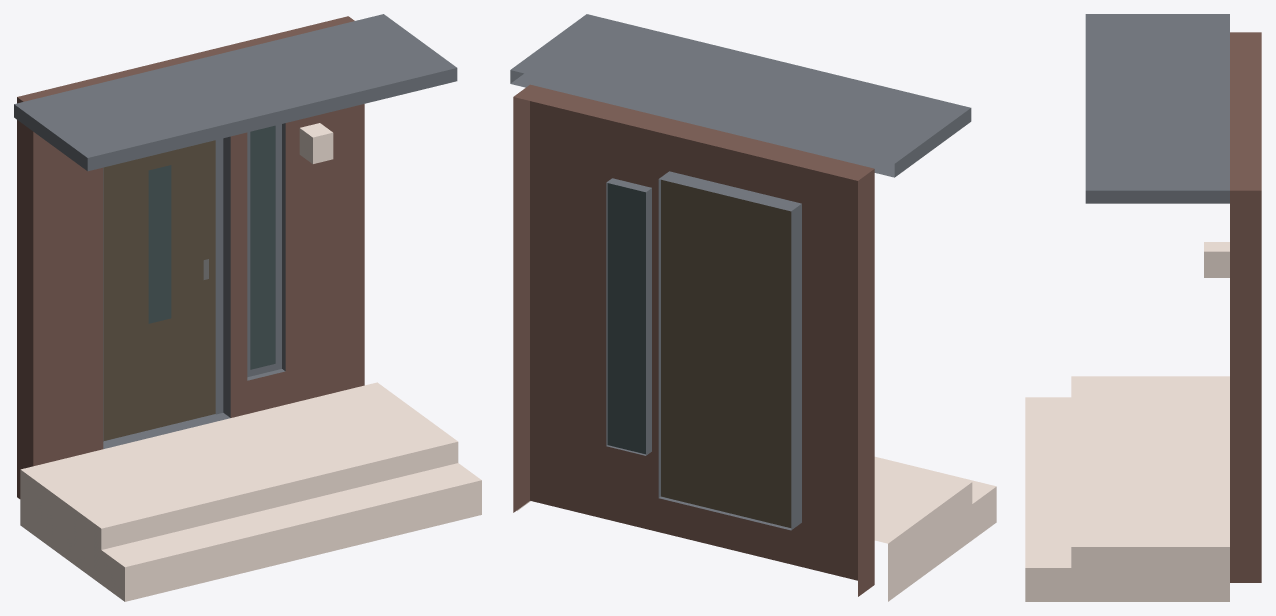
The model's file is entrance.fbx.
The picture shows the model from 3 angles, left to right: view 1: azimuth 30°, elevation 25°; view 2: azimuth 150°, elevation 25°; view 3: azimuth 270°, elevation 25°; orthographic projection. The views are drawn at different scales.
Visible parts, largest first — view 1: a2000s2/0/entrance; view 2: a2000s2/0/entrance; view 3: a2000s2/0/entrance.
Part boxes in pixels (box(x1,y1,x2,y2)): a2000s2/0/entrance: box(14, 14, 481, 601); a2000s2/0/entrance: box(510, 14, 996, 601); a2000s2/0/entrance: box(1025, 14, 1261, 601).
Bounding box in the file's own units: 2.9 × 3.17 × 1.64.
